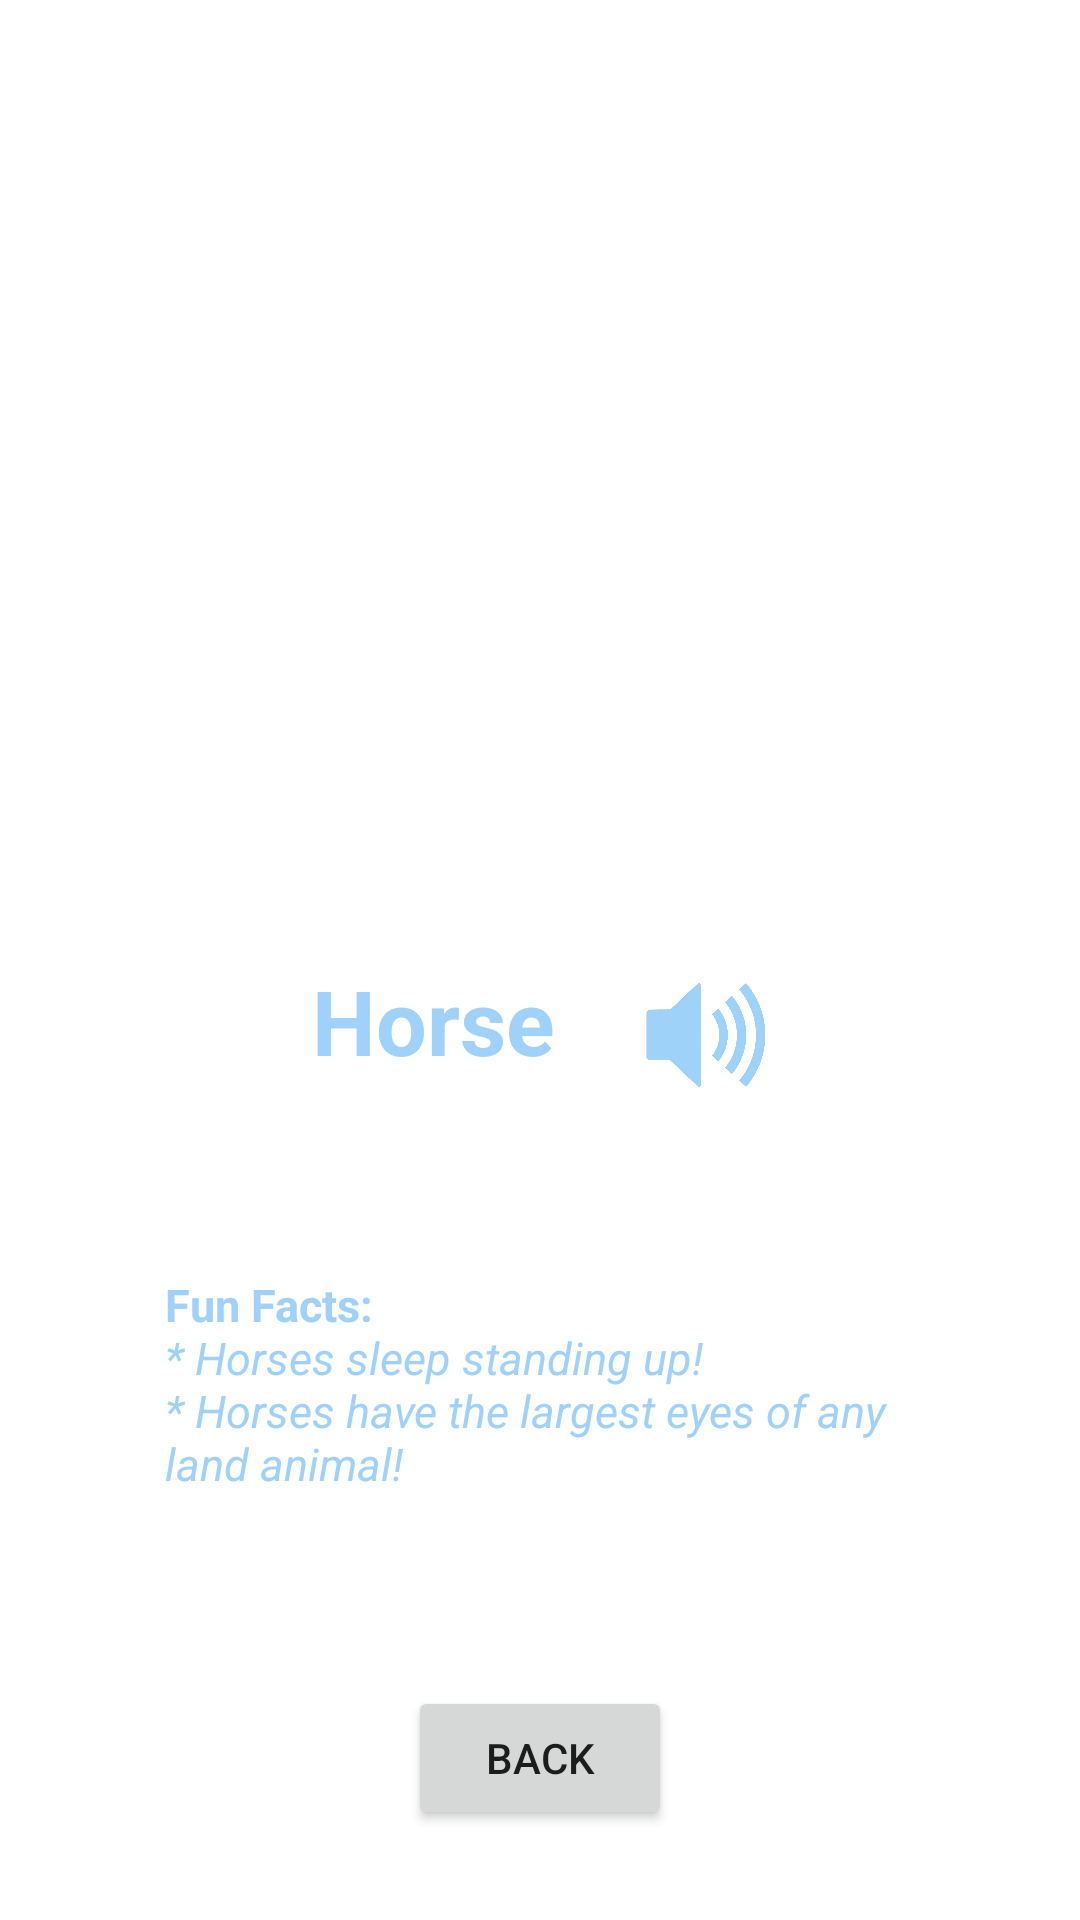

Where to tap for icons on this 1080 × 1920 app screen, as [x,y]:
volume: [705,1035]
